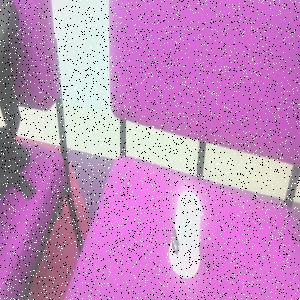Cup: (169, 192, 203, 280)
